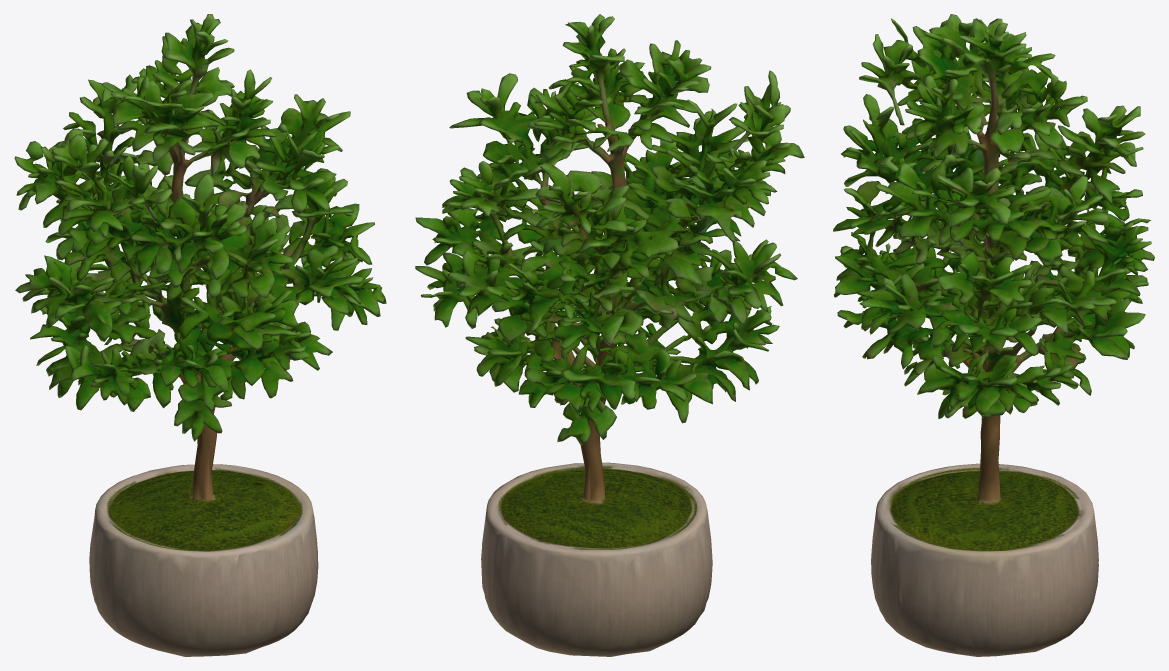
The model's file is plant-table-ready.glb.
3 views of the same model, side by side, from view 1: azimuth 30°, elevation 25°; view 2: azimuth 150°, elevation 25°; view 3: azimuth 270°, elevation 25° (orthographic).
Parts seen in each view (by area): view 1: potted_plant; view 2: potted_plant; view 3: potted_plant.
Part boxes in pixels (x1=…): potted_plant: x1=14, y1=14, x2=386, y2=656; potted_plant: x1=415, y1=14, x2=804, y2=656; potted_plant: x1=833, y1=14, x2=1154, y2=656.
Size of the model in its own units: 0.2734 by 0.45 by 0.2194.
Materials: 1 (1 with a texture image).
